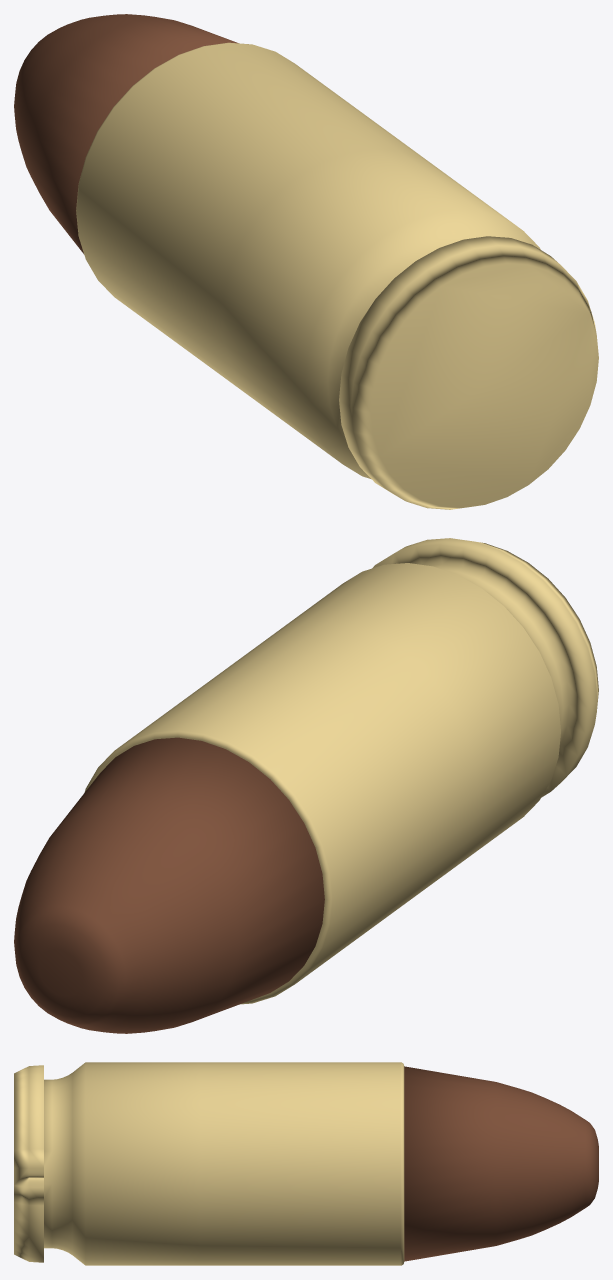
The model's file is 9mmbullet_model_final.glb.
3 views of the same model, one above another, from view 1: azimuth 30°, elevation 25°; view 2: azimuth 150°, elevation 25°; view 3: azimuth 270°, elevation 25° (orthographic). The views are drawn at different scales.
Visible parts, largest first — view 1: Cylinder.002; view 2: Cylinder.002; view 3: Cylinder.002.
Boxes of the visible parts, left/top/right/bottom form: Cylinder.002: left=14, top=14, right=598, bottom=509; Cylinder.002: left=14, top=538, right=598, bottom=1033; Cylinder.002: left=14, top=1062, right=598, bottom=1265.
Bounding box in the file's own units: 0.1953 × 0.1953 × 0.5609.
